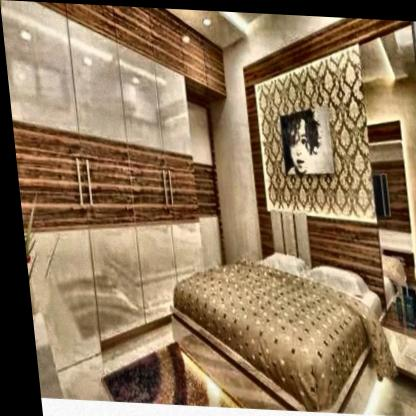Bed: (160, 205, 390, 409)
Closet: (0, 0, 145, 382), (110, 5, 208, 339)
Nightstand: (370, 309, 416, 389)
